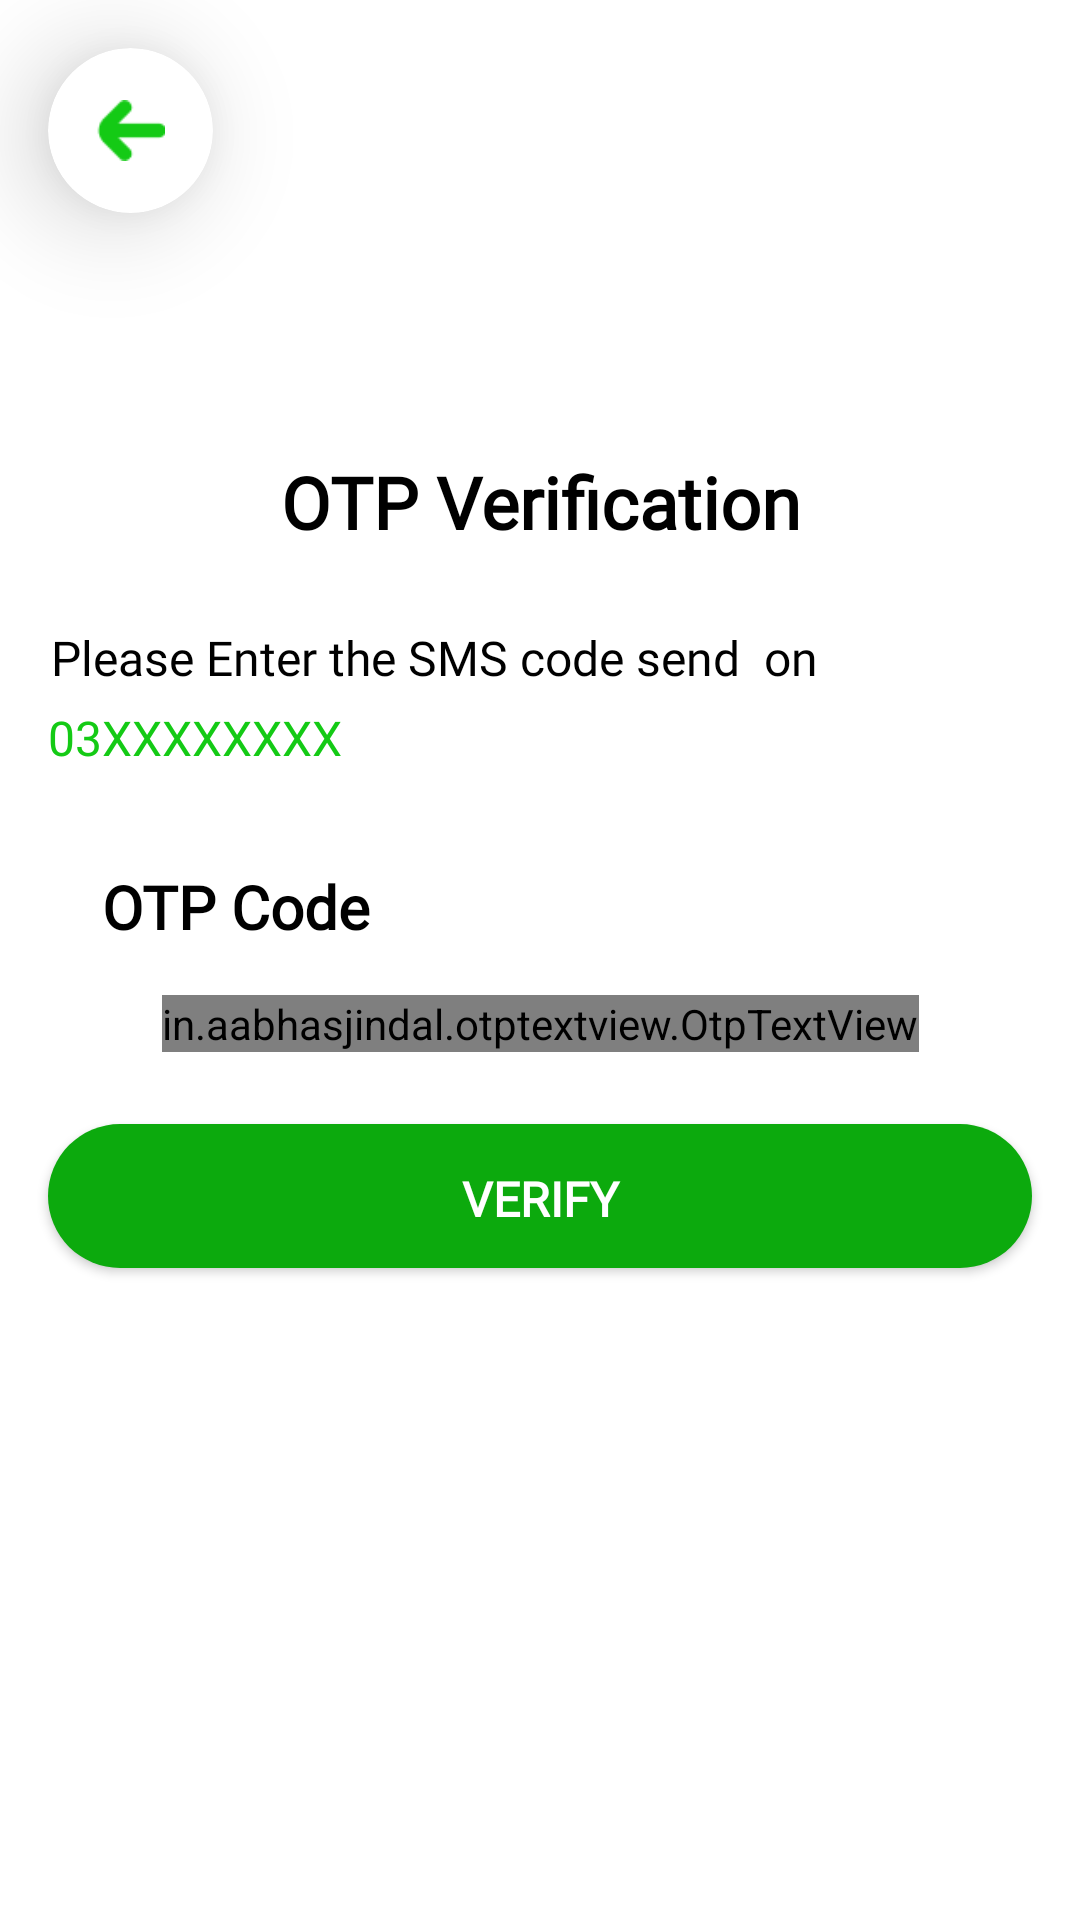

Where to tap for icons on this 1080px x 1920px app screen, as point (x, y):
arrow back: point (130, 130)
